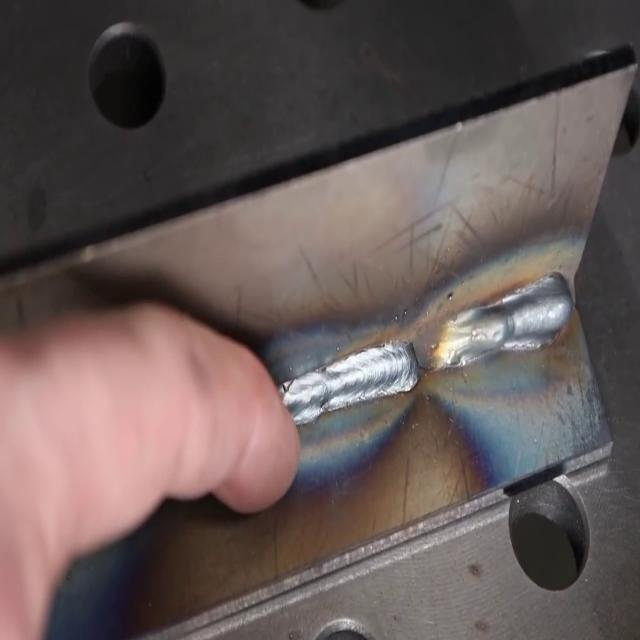Bad Weld: (301, 268, 575, 426)
